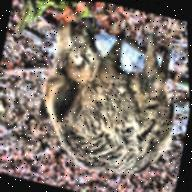boar: (20, 21, 192, 192)
